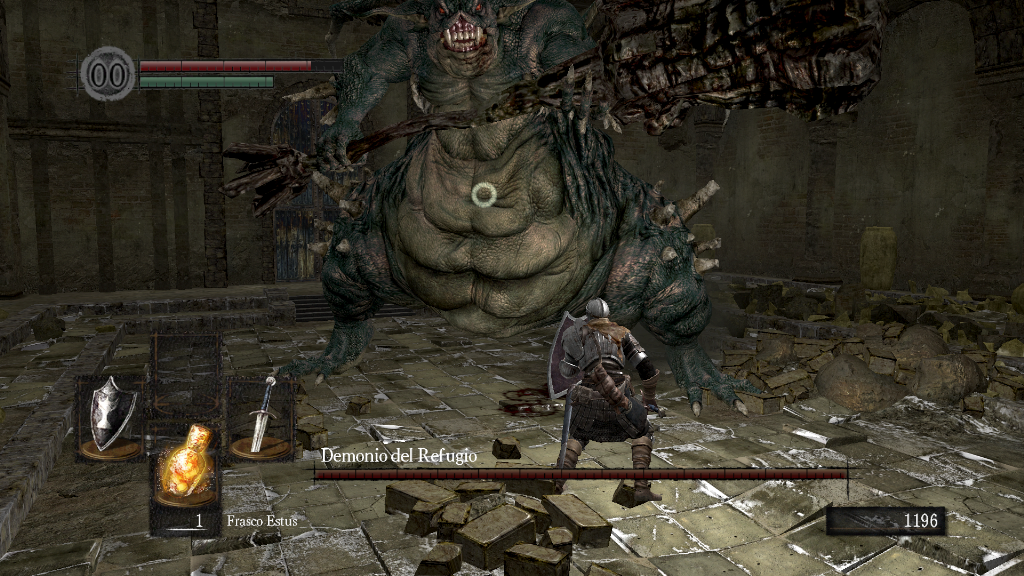asylumDemon: (216, 4, 890, 414)
bossHP: (314, 469, 847, 479)
health: (138, 58, 343, 71)
humanity: (80, 45, 136, 102)
player: (546, 299, 669, 487)
souls: (825, 506, 945, 536)
stamina: (138, 74, 274, 88)
